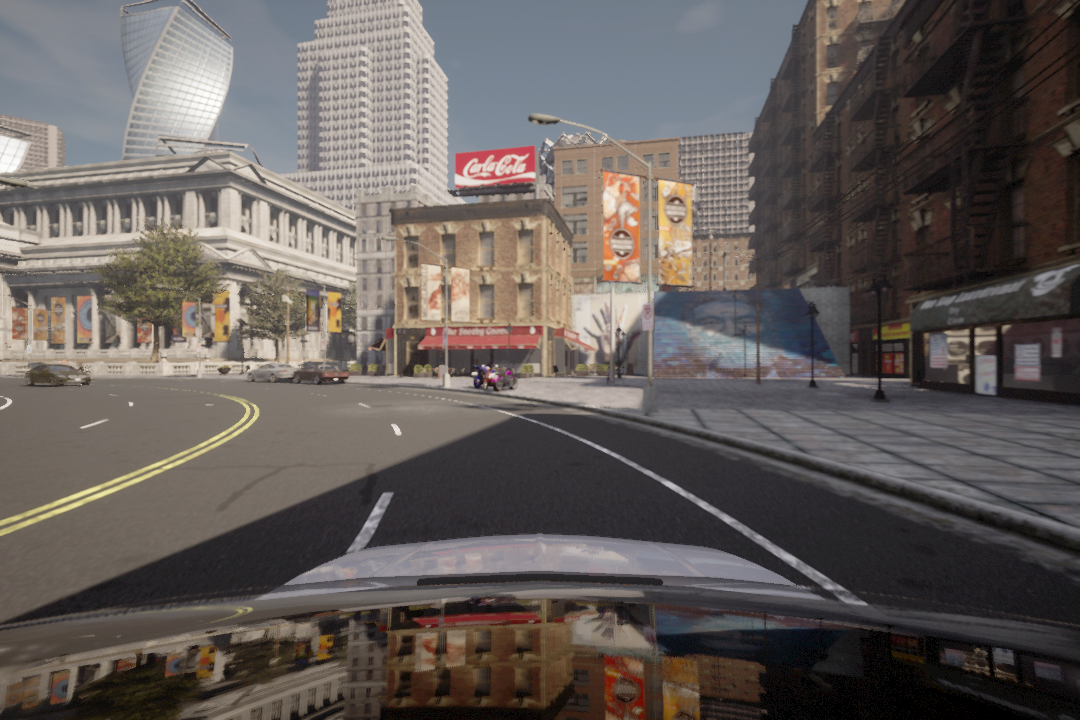TrafficSign_nstop: (641, 304, 652, 330)
